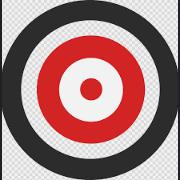bulls eye: (2, 2, 177, 180)
